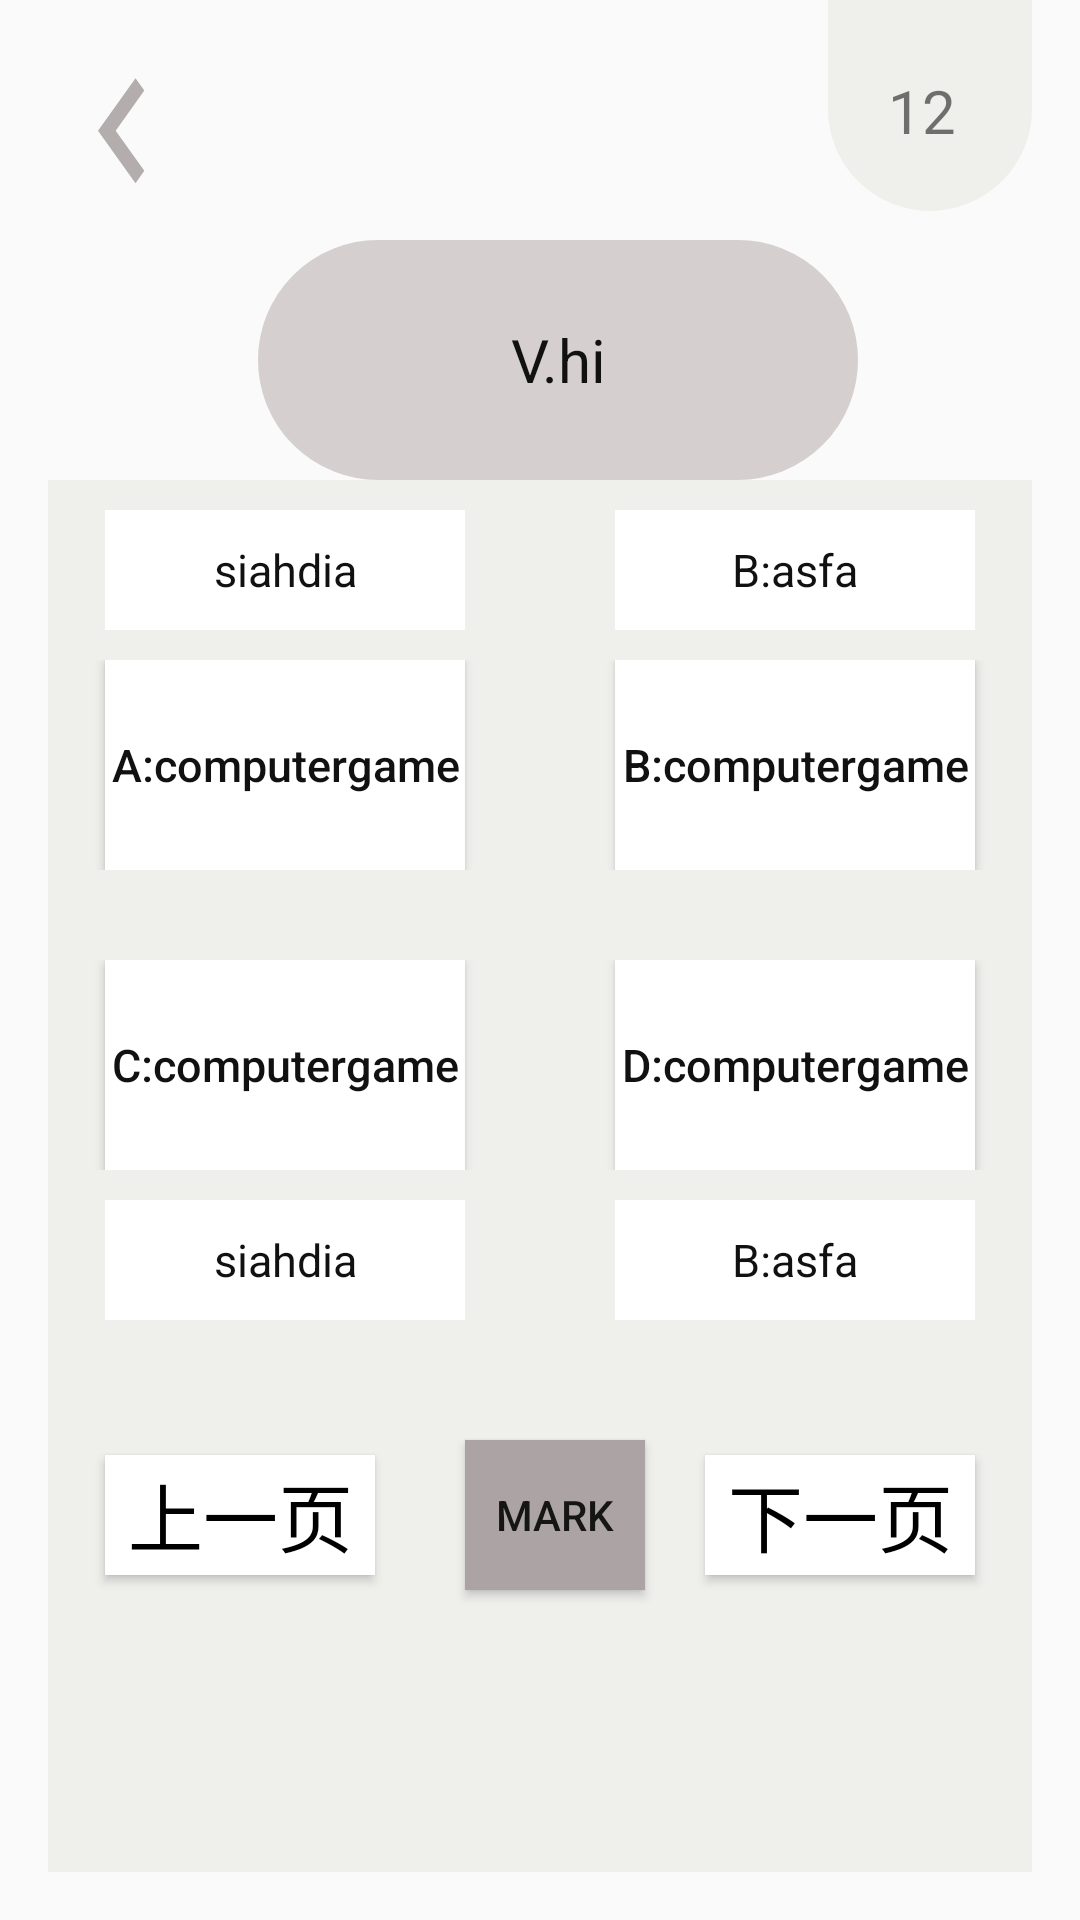

Where to tap for icons on this 1080*1920 app screen, as (x,y):
keyboard arrow left: (121,130)
